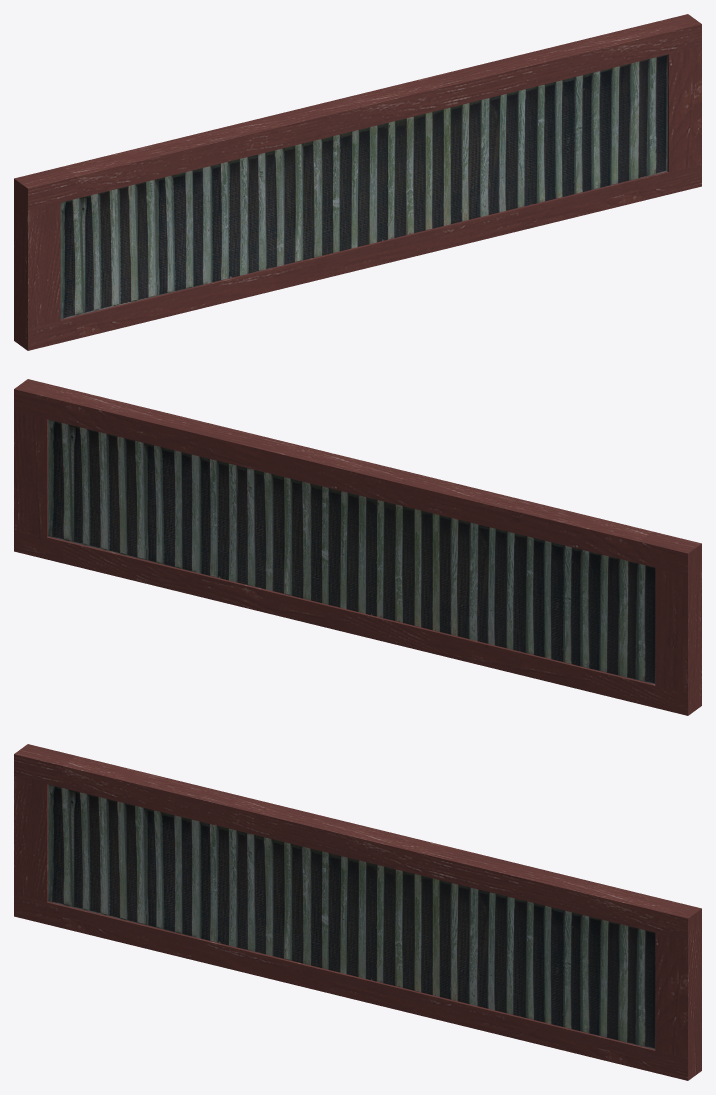
The model's file is SM_Geumsan_Mi_Wall_J.fbx.
3 renders of one model, top to bottom at view 1: azimuth 30°, elevation 25°; view 2: azimuth 150°, elevation 25°; view 3: azimuth 330°, elevation 25°, orthographic.
Parts seen in each view (by area): view 1: SM_Geumsan_Mi_Wall_J; view 2: SM_Geumsan_Mi_Wall_J; view 3: SM_Geumsan_Mi_Wall_J.
Boxes of the visible parts, box(x1,y1,x2,y2) form: SM_Geumsan_Mi_Wall_J: box(14, 14, 701, 350); SM_Geumsan_Mi_Wall_J: box(14, 379, 701, 715); SM_Geumsan_Mi_Wall_J: box(14, 744, 701, 1080).
Bounding box in the file's own units: 421 × 96.9 × 15.
